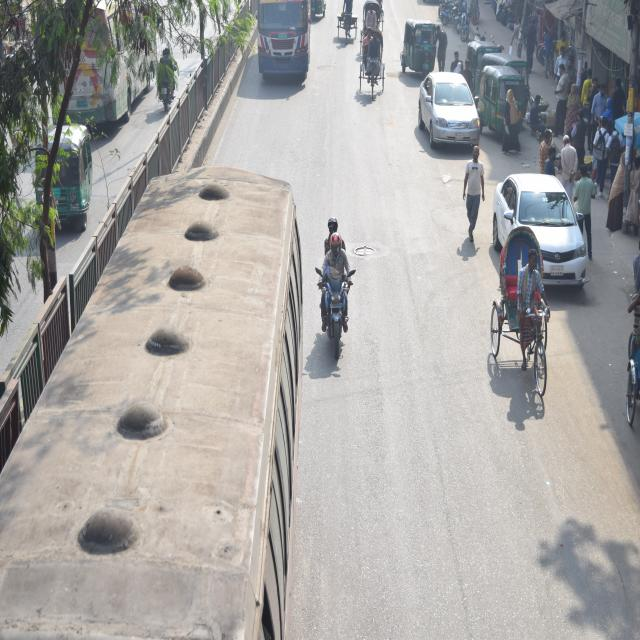bus: (0, 162, 303, 640), (53, 0, 153, 122), (254, 0, 317, 80)
car: (492, 166, 590, 298), (419, 64, 483, 158)
motorbike: (313, 240, 355, 375), (156, 54, 178, 122)
